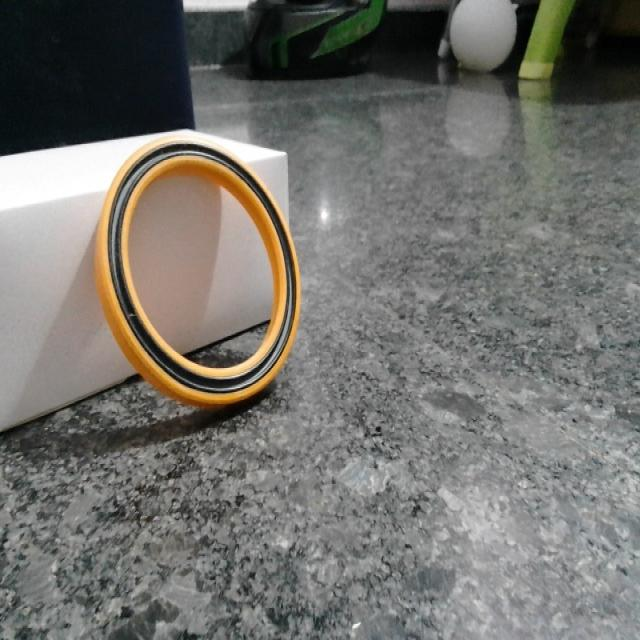orange-LW-ring: (96, 138, 300, 407)
